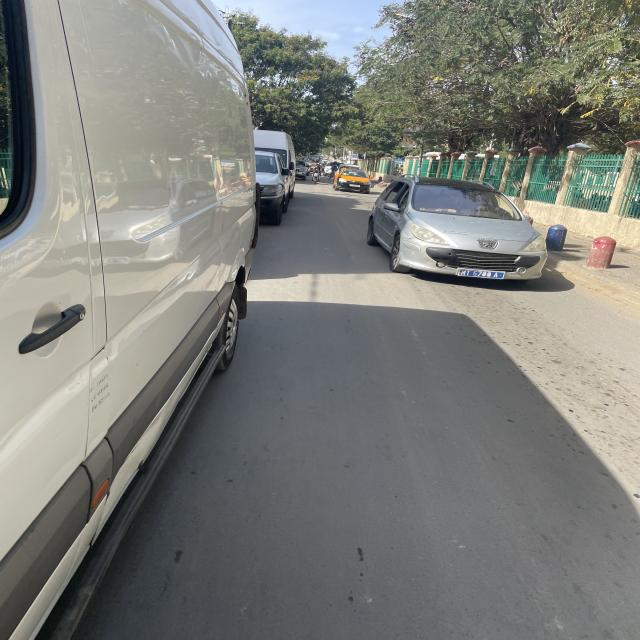fourgon: (1, 1, 257, 640), (255, 129, 299, 199)
moto: (313, 170, 327, 186)
particulier: (369, 174, 549, 287), (255, 150, 293, 231), (295, 164, 311, 189)
taxi: (335, 168, 376, 202)
